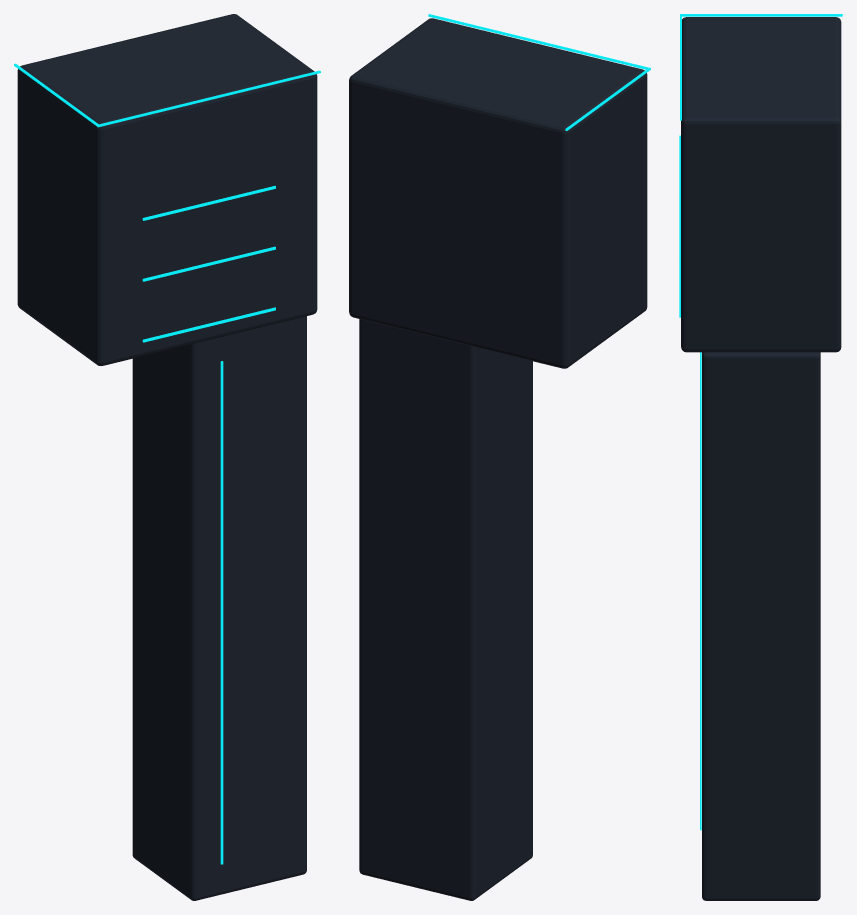
File: Overhang.glb
3 renders of one model, left to right at view 1: azimuth 30°, elevation 25°; view 2: azimuth 150°, elevation 25°; view 3: azimuth 270°, elevation 25°, orthographic. The views are drawn at different scales.
Parts seen in each view (by area): view 1: Over_Shaft, Over_Head, Over_Spine, Over_HeadRim; view 2: Over_Shaft, Over_Head, Over_HeadRim; view 3: Over_Shaft, Over_Head, Over_Spine, Over_HeadRim2.
Boxes of the visible parts, bbox=[...] form: Over_Shaft: bbox=[132, 316, 306, 900]; Over_Head: bbox=[17, 14, 317, 365]; Over_Spine: bbox=[220, 361, 223, 864]; Over_HeadRim: bbox=[97, 70, 320, 126]; Over_Shaft: bbox=[359, 319, 532, 900]; Over_Head: bbox=[349, 18, 647, 368]; Over_HeadRim: bbox=[428, 14, 650, 70]; Over_Shaft: bbox=[702, 352, 820, 900]; Over_Head: bbox=[681, 17, 841, 352]; Over_Spine: bbox=[700, 352, 701, 830]; Over_HeadRim2: bbox=[680, 14, 842, 16].
Bounding box in the file's own units: 23 × 80.08 × 15.1.
